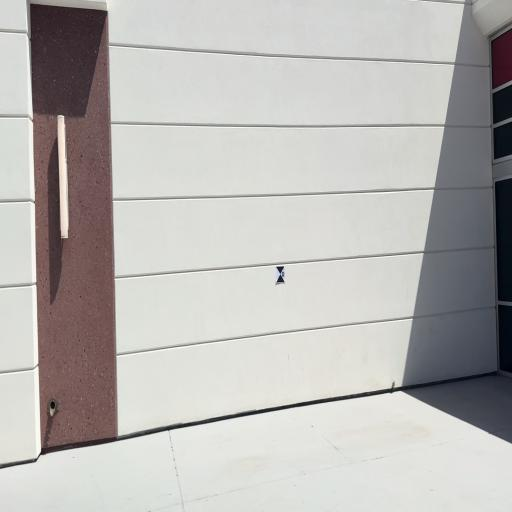target0: (276, 266, 286, 284)
